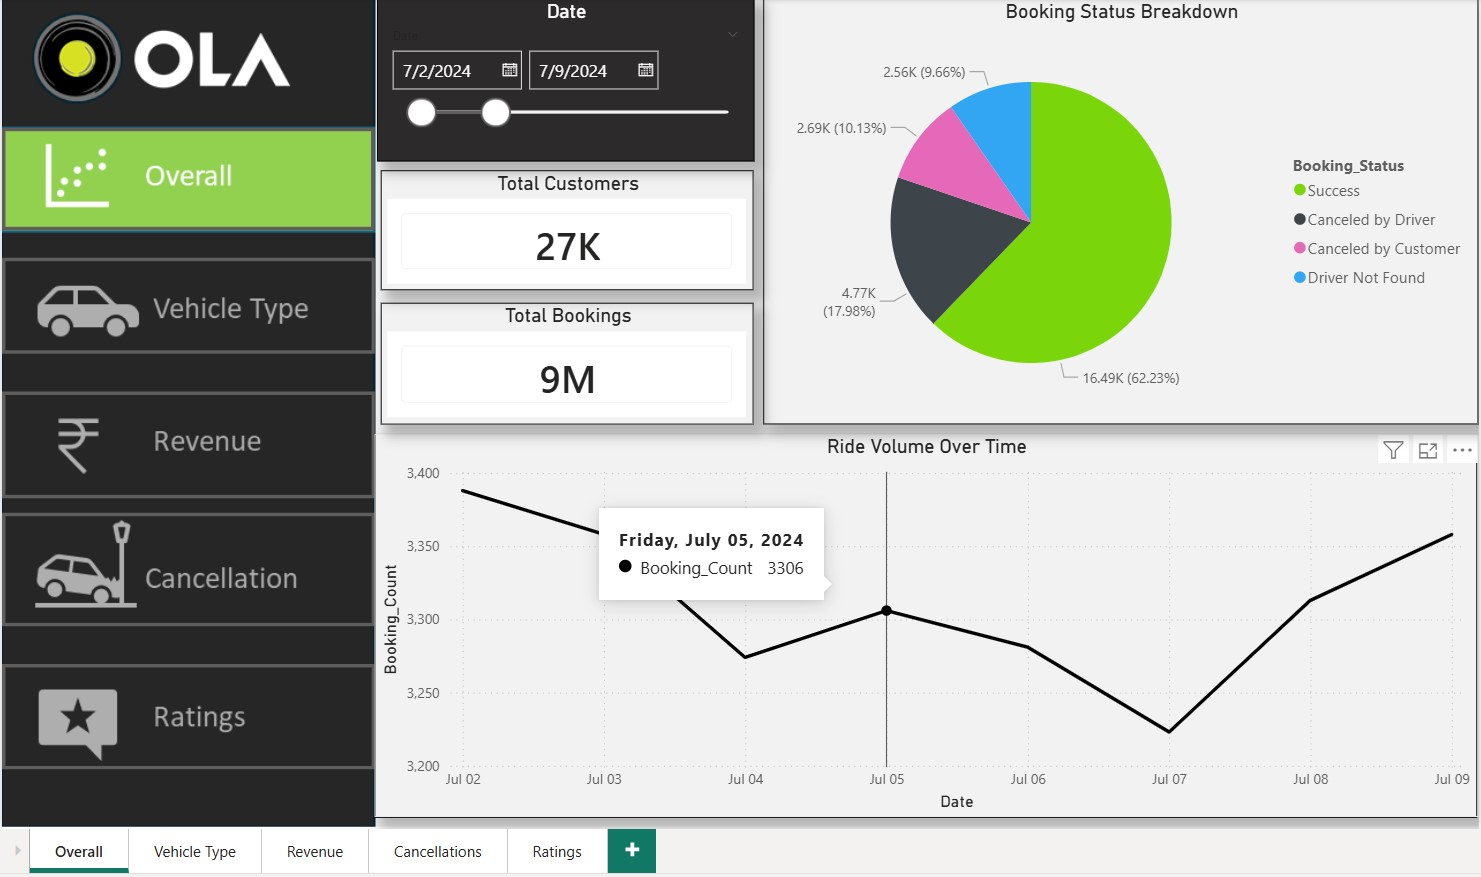

This screenshot's page, from the dashboard's own definition file:
{"tool":"powerbi","page":{"name":"Overall","canvas":[1280,720],"ordinal":0},"visuals":[{"type":"actionButton","box":[0,223.8,323.4,83.2],"z":0},{"type":"actionButton","box":[0,339.8,323.4,92.6],"z":1000},{"type":"actionButton","box":[0,576.6,323.4,91.4],"z":2000},{"type":"actionButton","box":[0,445.3,323.4,98.4],"z":3000},{"type":"actionButton","box":[0,111.6,322.9,88.9],"z":4000},{"type":"lineChart","title":"Ride Volume Over Time","fields":{"Y":["CountNonNull(July.Booking_ID)"],"Category":["July.Date"]},"box":[323.4,377.3,956.3,332.8],"z":5000},{"type":"pieChart","title":"Booking Status Breakdown","fields":{"Category":["July.Booking_Status"],"Y":["CountNonNull(July.Booking_ID)"]},"box":[660,0,620.2,369.1],"z":6000},{"type":"slicer","title":"Date","fields":{"Values":["July.Date"]},"box":[324.6,0,327,140.6],"z":7000},{"type":"cardVisual","title":"Total Customers","fields":{"Data":["CountNonNull(July.Booking_ID)"]},"box":[328.1,148.8,323.4,104.3],"z":8000},{"type":"cardVisual","title":"Total Bookings","fields":{"Data":["Sum(July.Booking_Value)"]},"box":[328.1,263.7,323.4,105.5],"z":9000}]}

Visuals, with their boxes in screenshot pixels (x1, y1, x2, y2):
actionButton: detection(0, 255, 369, 350)
actionButton: detection(0, 388, 369, 493)
actionButton: detection(0, 658, 369, 762)
actionButton: detection(0, 508, 369, 620)
actionButton: detection(0, 127, 368, 229)
"Ride Volume Over Time" lineChart: detection(369, 431, 1460, 810)
"Booking Status Breakdown" pieChart: detection(753, 0, 1461, 421)
"Date" slicer: detection(370, 0, 744, 160)
"Total Customers" cardVisual: detection(374, 170, 743, 289)
"Total Bookings" cardVisual: detection(374, 301, 743, 421)
